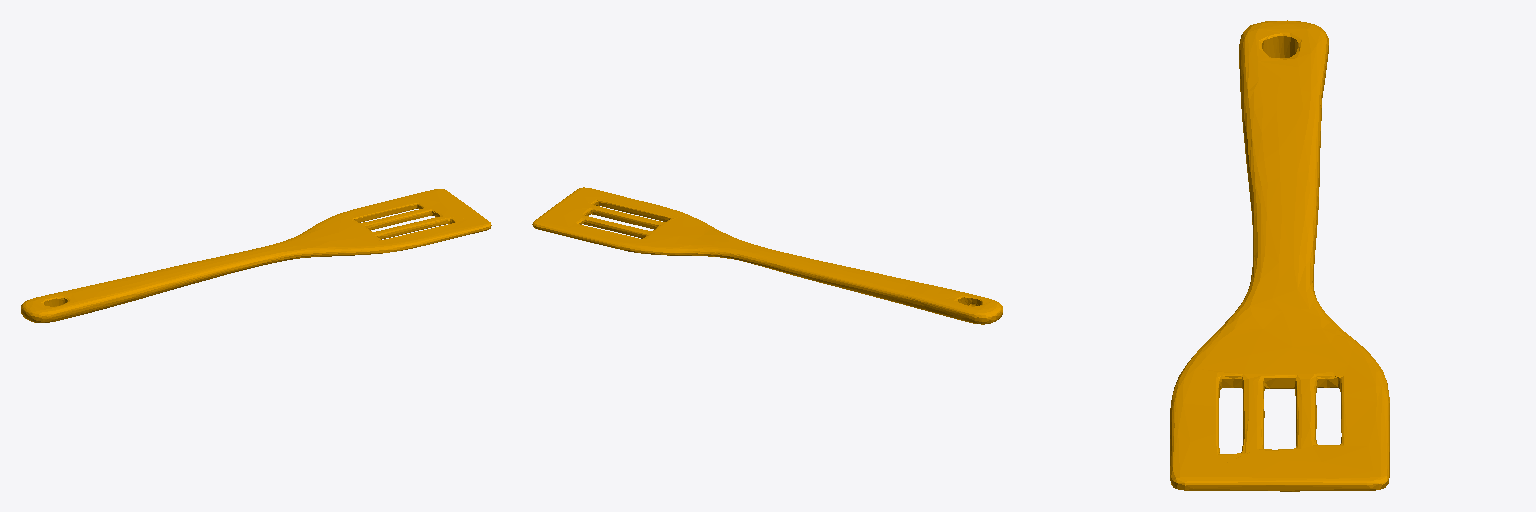
robot.urdf — wooden_spatula:
<?xml version="1.0"?>
<robot name="wooden_spatula">
  <link name="wooden_spatula">
    <visual>
      <origin xyz="0 0 0" rpy="0 0 0"/>
      <geometry>
        <mesh filename="wooden_spatula.obj" scale="1 1 1"/>
      </geometry>
    </visual>
    <collision>
      <origin xyz="0 0 0" rpy="0 0 0"/>
      <geometry>
        <mesh filename="wooden_spatula.obj" scale="1 1 1"/>
      </geometry>
    </collision>
    <inertial>
      <density value="400"/>
    </inertial>
  </link>
</robot>

--- Render facts (derived) ---
Views: 3 orthographic renders of the robot side by side, from view 1: azimuth 30°, elevation 25°; view 2: azimuth 150°, elevation 25°; view 3: azimuth 270°, elevation 25°.
Robot: wooden_spatula — 1 links, 0 joints (none); root link wooden_spatula; default pose: all joints at 0.
Links seen in each view (by area): view 1: wooden_spatula; view 2: wooden_spatula; view 3: wooden_spatula.
Boxes of the visible links, x1,y1,x2,y2 form: wooden_spatula: (21,189,491,322); wooden_spatula: (532,187,1002,324); wooden_spatula: (1170,20,1389,491).
Size in the robot's own frame: 0.3001 by 0.0609 by 0.0085 metres.
1 mesh visuals loaded from 1 distinct referenced files (1 OBJ).
